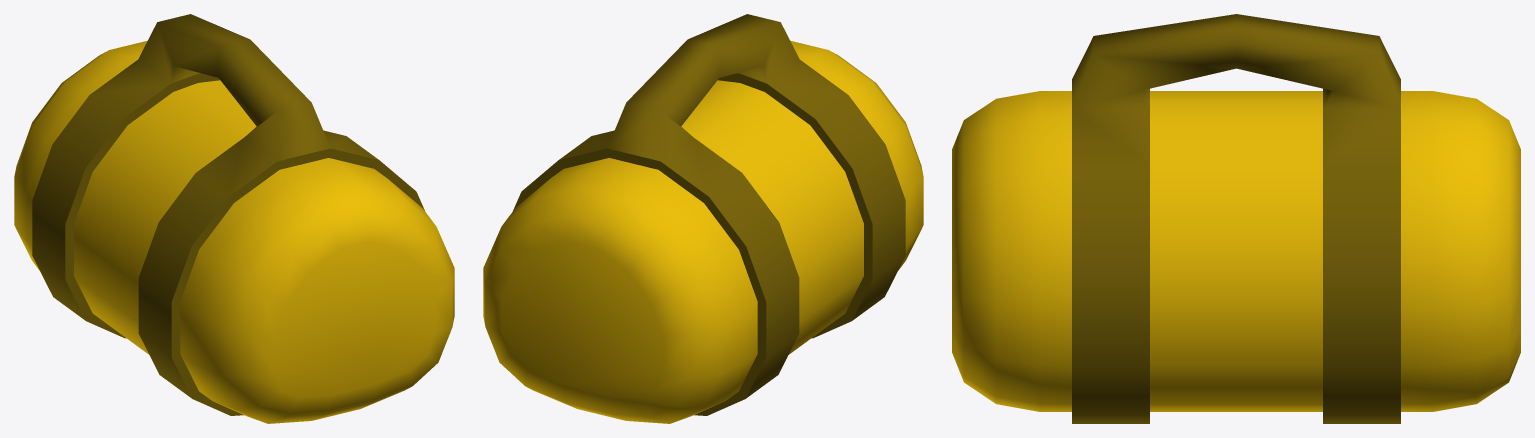
The model's file is baggage2.fbx.
The picture shows the model from 3 angles, left to right: view 1: azimuth 30°, elevation 25°; view 2: azimuth 150°, elevation 25°; view 3: azimuth 270°, elevation 25°; orthographic projection. The views are drawn at different scales.
Parts seen in each view (by area): view 1: Cylinder.010; view 2: Cylinder.010; view 3: Cylinder.010.
Boxes of the visible parts, <box> form: Cylinder.010: <box>14,14,454,423</box>; Cylinder.010: <box>483,14,923,423</box>; Cylinder.010: <box>952,14,1520,423</box>.
Size of the model in its own units: 9.85 by 11.09 by 15.5.
